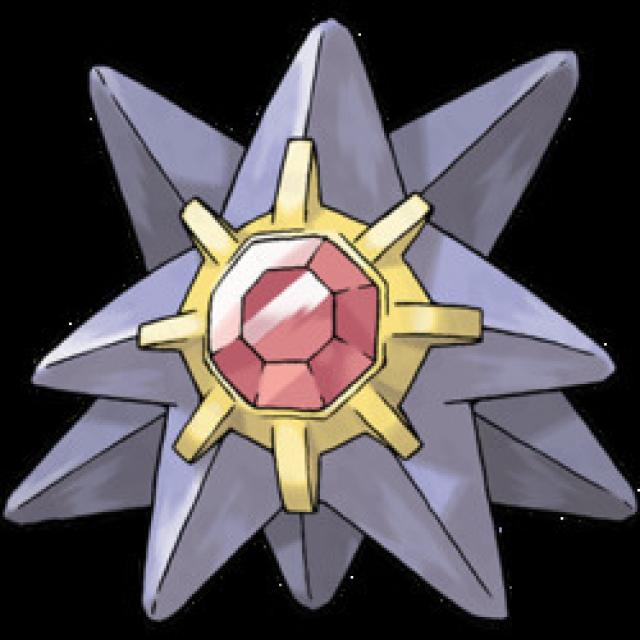Starmie: (0, 0, 640, 630)
